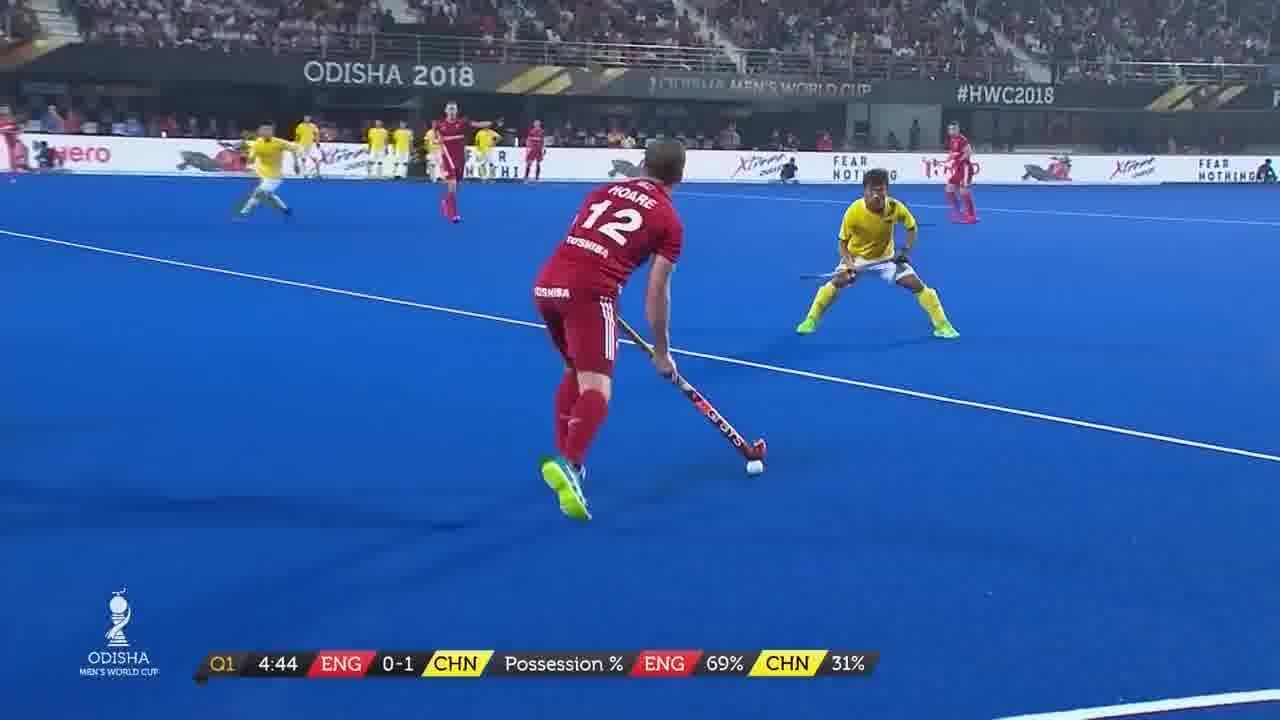ball: (738, 441, 772, 481)
